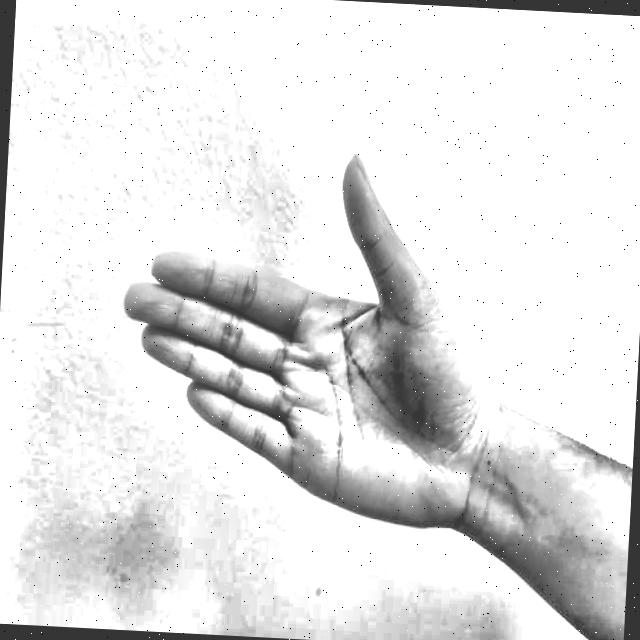Aa: (87, 116, 483, 550)
